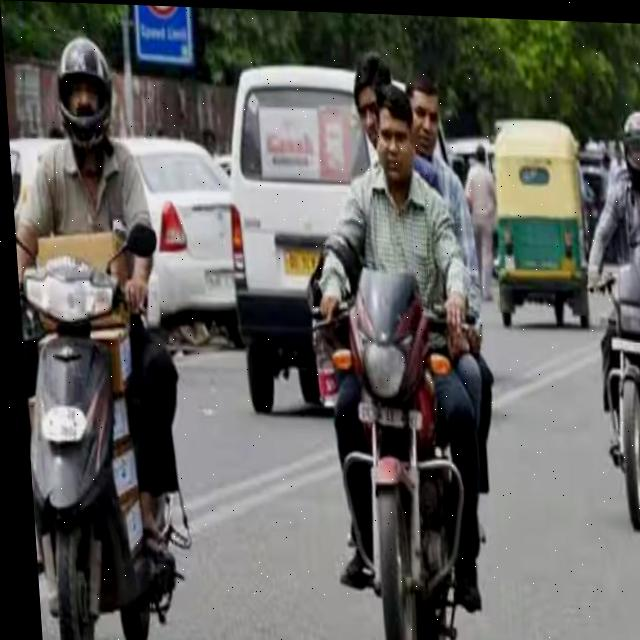plate: (337, 397, 422, 428), (31, 402, 83, 448), (275, 246, 319, 276), (603, 328, 640, 356), (552, 250, 579, 268)
